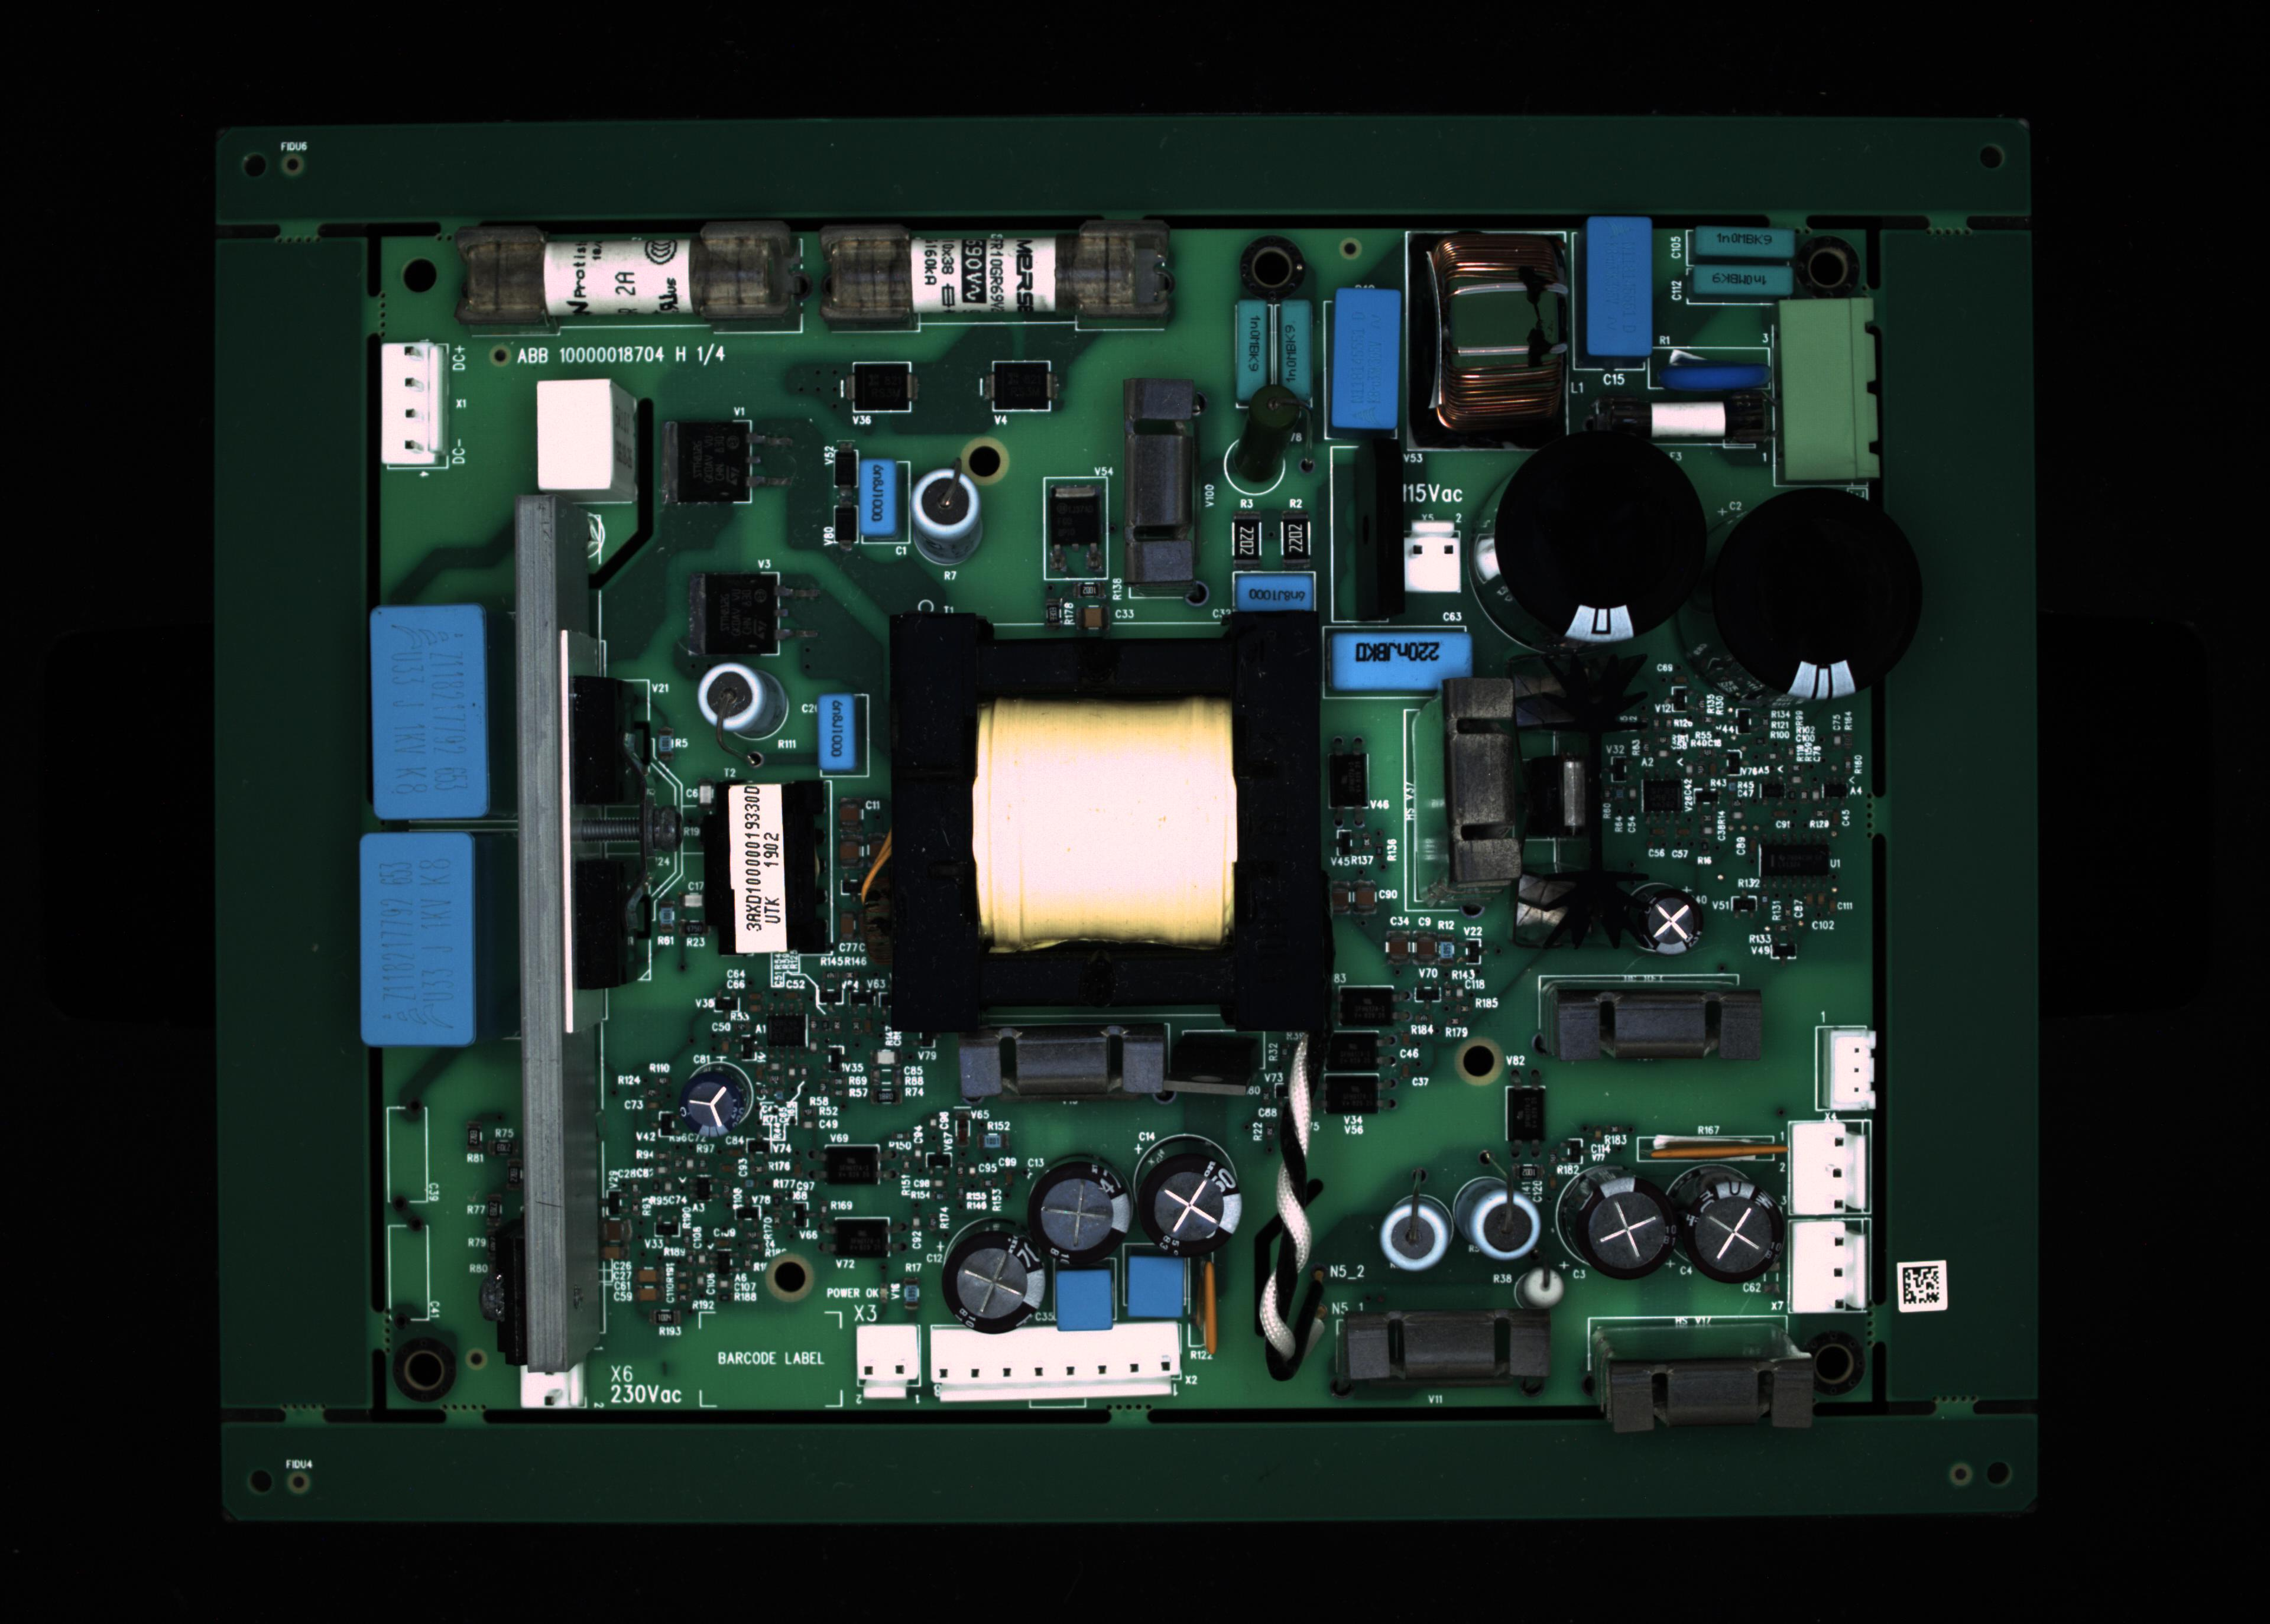10_p: (1648, 346, 1772, 394)
11_q: (1779, 299, 1874, 489)
12_r: (1591, 387, 1776, 455)
13_s: (380, 337, 443, 468)
14_t: (529, 380, 629, 503)
15_e: (858, 459, 899, 540)
16_k: (891, 464, 985, 569)
17_u: (1127, 385, 1206, 608)
18_v: (1231, 571, 1317, 615)
19_w: (1329, 626, 1475, 691)
1_a: (455, 220, 807, 336)
20_f: (1393, 517, 1470, 599)
21_g: (1475, 429, 1707, 647)
22_g: (1711, 480, 1918, 691)
23_h: (369, 605, 487, 819)
24_h: (364, 828, 475, 1049)
25_f: (520, 1367, 586, 1406)
26_f: (855, 1323, 921, 1401)
27_x: (928, 1323, 1180, 1401)
28_i: (1136, 1155, 1243, 1253)
29_i: (1027, 1151, 1132, 1274)
2_a: (819, 216, 1175, 330)
30_i: (944, 1229, 1046, 1334)
31_j: (1053, 1267, 1115, 1332)
32_j: (1125, 1255, 1190, 1320)
33_e: (814, 692, 856, 770)
34_k: (1377, 1190, 1456, 1272)
35_k: (1456, 1178, 1542, 1262)
36_i: (1577, 1176, 1672, 1278)
37_i: (1686, 1176, 1786, 1285)
38_l: (1343, 1318, 1554, 1387)
39_l: (1609, 1360, 1820, 1438)
3_b: (1234, 295, 1271, 404)
40_l: (1539, 977, 1762, 1065)
41_y: (1407, 678, 1505, 919)
42_z: (1818, 1028, 1878, 1114)
43_m: (1792, 1121, 1873, 1216)
44_m: (1788, 1218, 1871, 1313)
45_i: (679, 1072, 754, 1135)
46_n: (1338, 982, 1412, 1028)
47_n: (811, 1142, 899, 1192)
48_n: (818, 1214, 911, 1265)
49_aa: (765, 1011, 809, 1051)
4_b: (1280, 299, 1313, 399)
50_n: (1321, 1030, 1391, 1070)
51_n: (1308, 1070, 1396, 1120)
52_ab: (1328, 740, 1371, 830)
53_ac: (1656, 1130, 1790, 1165)
54_ad: (1194, 1253, 1222, 1364)
55_l: (957, 1021, 1175, 1118)
56_ae: (1175, 1025, 1280, 1132)
57_af: (1509, 647, 1635, 951)
58_i: (1630, 884, 1706, 958)
59_o: (981, 359, 1067, 417)
5_c: (1333, 286, 1400, 429)
60_o: (840, 357, 923, 420)
6_6: (1405, 232, 1572, 452)
7_c: (1586, 218, 1649, 355)
8_d: (1695, 225, 1792, 260)
9_d: (1693, 262, 1793, 299)
